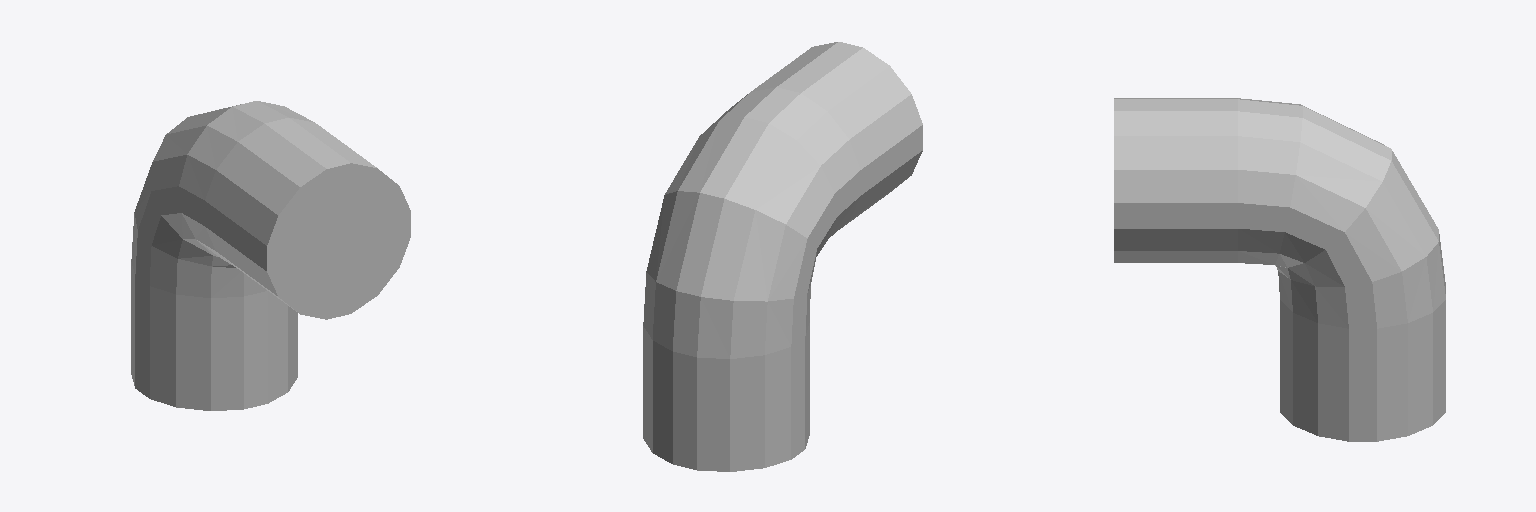
File: Pipe03.obj
The picture shows the model from 3 angles: view 1: azimuth 30°, elevation 25°; view 2: azimuth 150°, elevation 25°; view 3: azimuth 270°, elevation 25°; orthographic projection.
Parts seen in each view (by area): view 1: Pipe03; view 2: Pipe03; view 3: Pipe03.
Part boxes in pixels (x1,y1,x2,y2): Pipe03: (131, 101, 410, 410); Pipe03: (643, 42, 922, 471); Pipe03: (1114, 98, 1445, 441).
Bounding box in the file's own units: 0.6667 × 1.33 × 1.33.